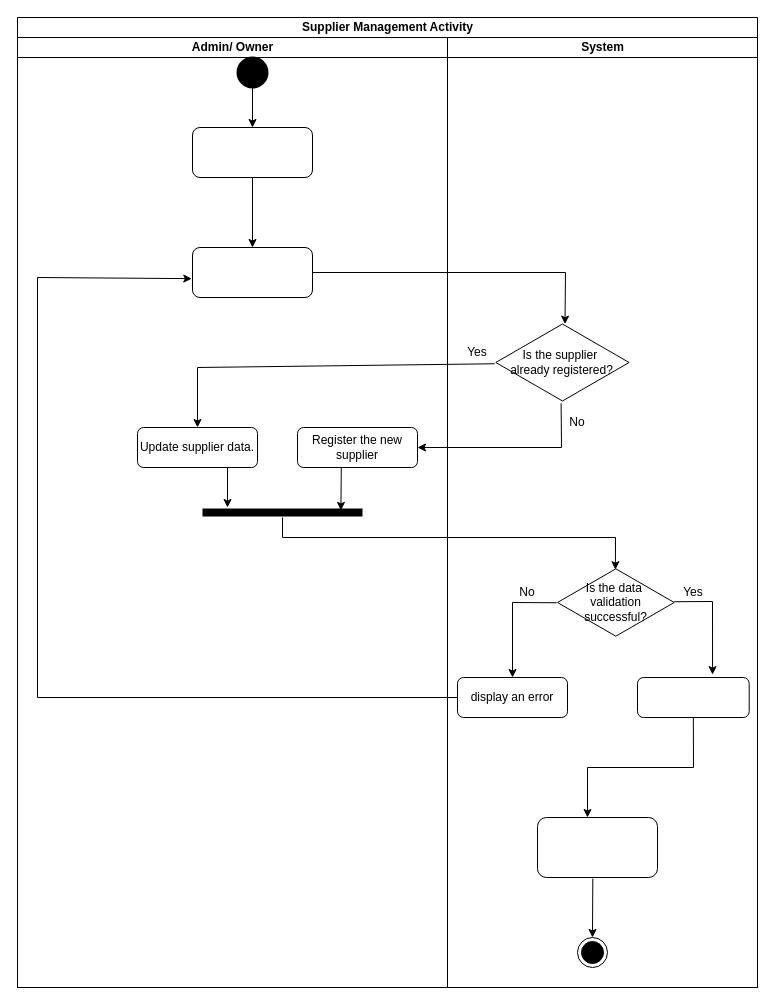
The diagram is 775 pixels wide and 1005 high, and some of its shapes have lost their labels. Each missing label, with the centre of its shape:
"Add or Update Supplier Details" belongs at [252,272].
"logs in to the system" belongs at [252,152].
"store in the system" belongs at [692,697].
"Update Supplier Details" belongs at [597,847].
